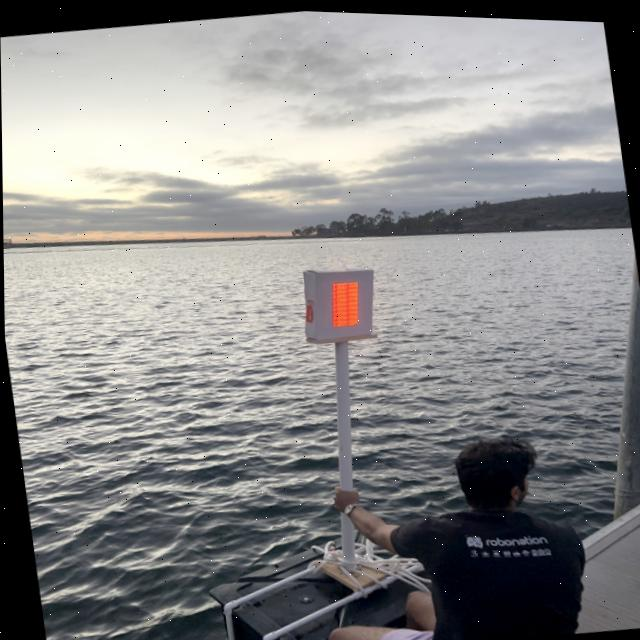led: (316, 264, 376, 348)
